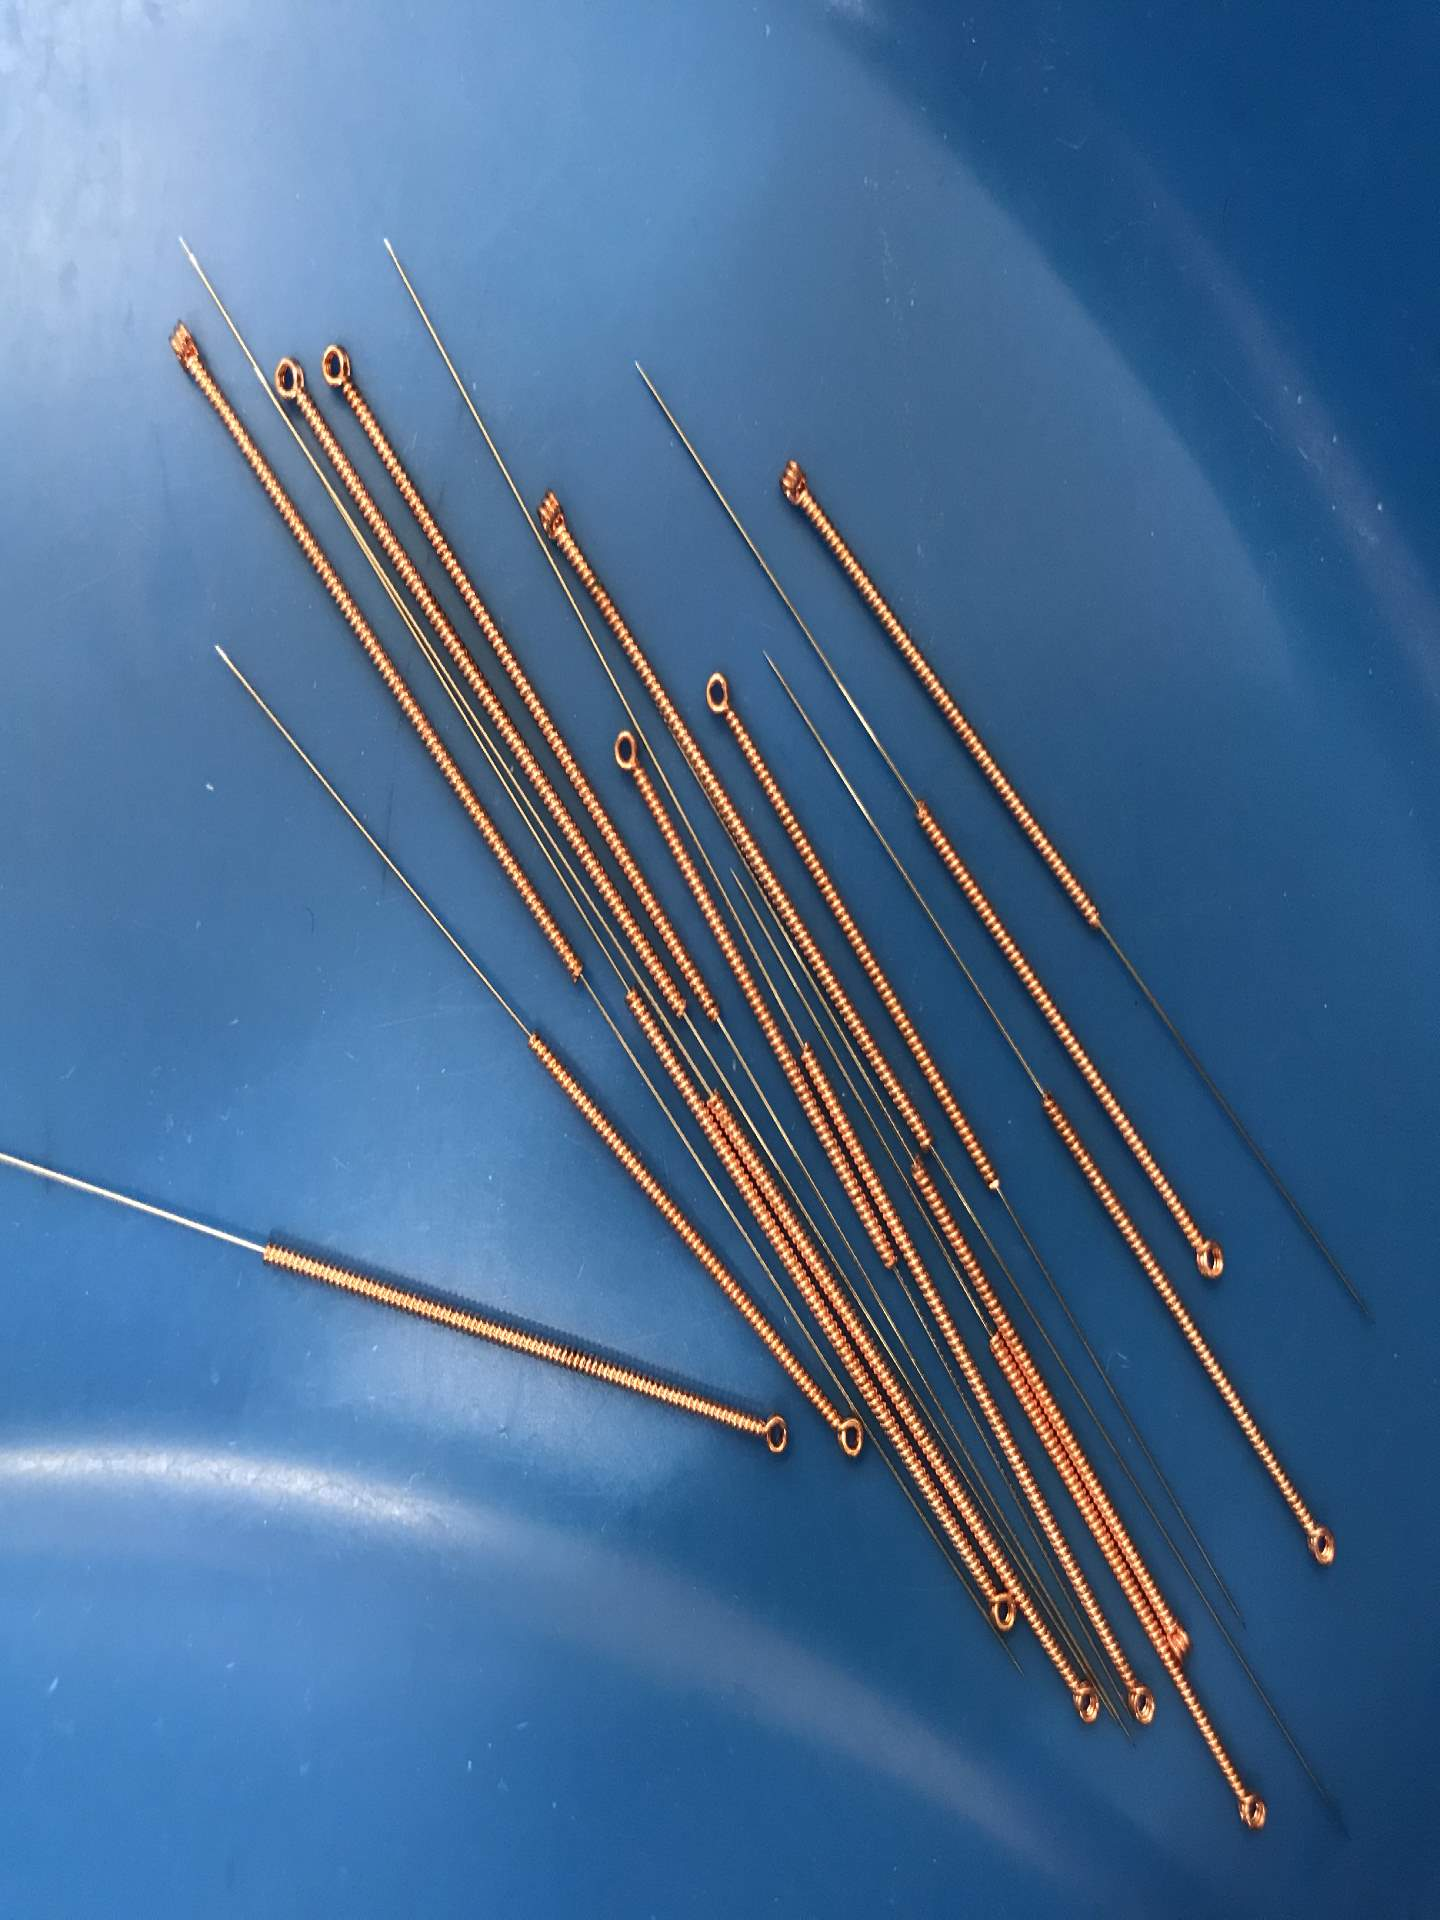needle: (1203, 1757, 1283, 1841), (1284, 1503, 1355, 1583), (306, 321, 369, 408), (758, 444, 832, 519), (731, 1395, 799, 1469), (1047, 1660, 1109, 1739), (519, 475, 581, 553), (688, 659, 750, 735), (257, 345, 318, 420), (1109, 1665, 1168, 1742), (597, 715, 655, 794), (150, 304, 209, 378), (1180, 1220, 1236, 1296), (814, 1398, 871, 1468), (970, 1580, 1019, 1639), (1165, 1609, 1199, 1665)
